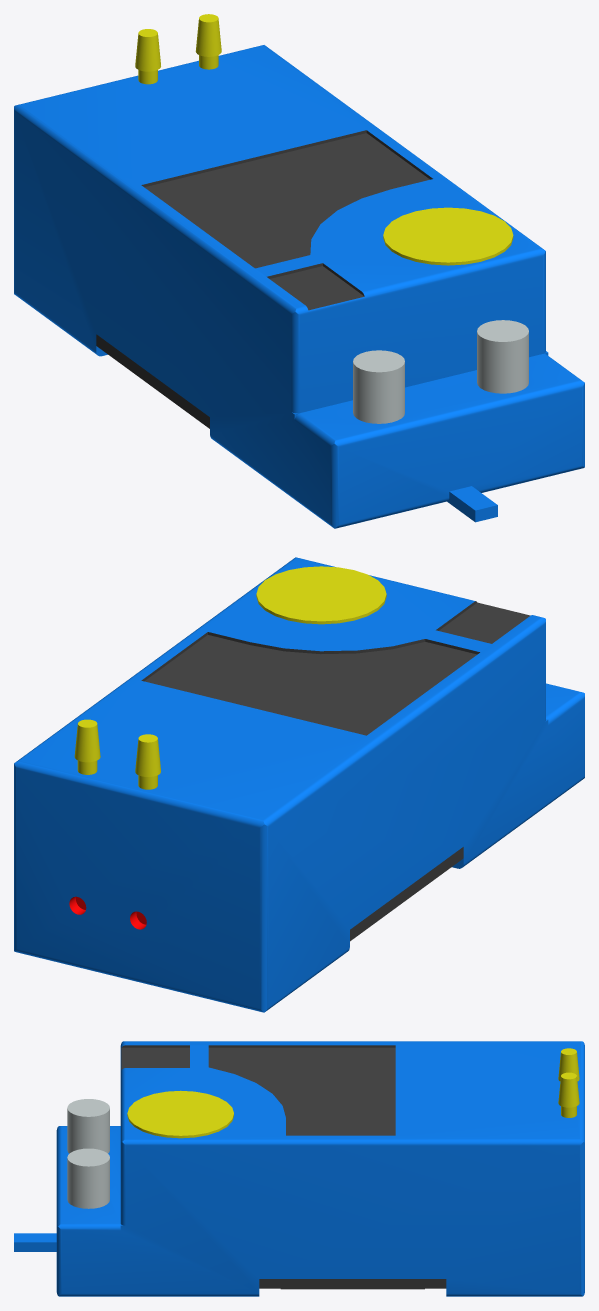
Rendered from sensorRGB.dae.
3 renders of one model, top to bottom at view 1: azimuth 30°, elevation 25°; view 2: azimuth 150°, elevation 25°; view 3: azimuth 270°, elevation 25°, orthographic. The views are drawn at different scales.
Parts seen in each view (by area): view 1: sensor_LF_CLARYS_2STSP_07 (×8), sensor_LF_CLARYS_2STSP_08; view 2: sensor_LF_CLARYS_2STSP_07 (×6), sensor_LF_CLARYS_2STSP_08; view 3: sensor_LF_CLARYS_2STSP_07 (×8), sensor_LF_CLARYS_2STSP_08.
Boxes of the visible parts, left/top/right/bottom form: sensor_LF_CLARYS_2STSP_07 (×8): left=14, top=14, right=584, bottom=528; sensor_LF_CLARYS_2STSP_08: left=96, top=334, right=209, bottom=428; sensor_LF_CLARYS_2STSP_07 (×6): left=14, top=557, right=584, bottom=1012; sensor_LF_CLARYS_2STSP_08: left=350, top=847, right=463, bottom=941; sensor_LF_CLARYS_2STSP_07 (×8): left=14, top=1041, right=584, bottom=1296; sensor_LF_CLARYS_2STSP_08: left=259, top=1279, right=446, bottom=1288.
Bounding box in the file's own units: 45 × 107 × 40.5.
